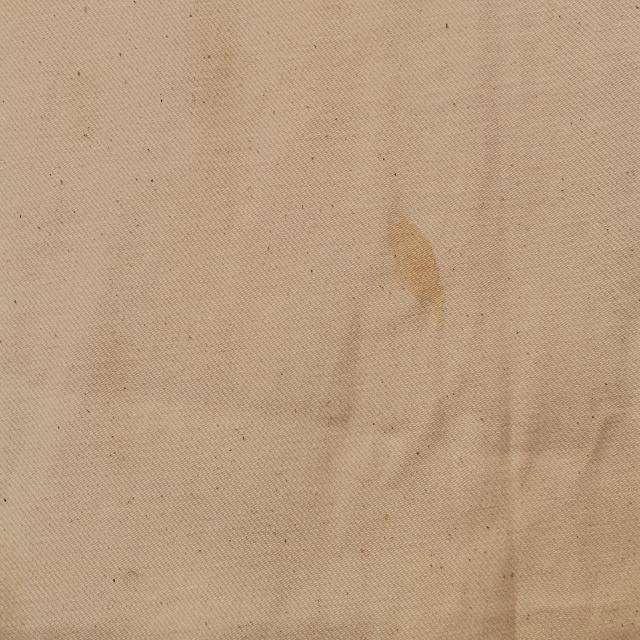taaaches: (379, 183, 453, 338)
